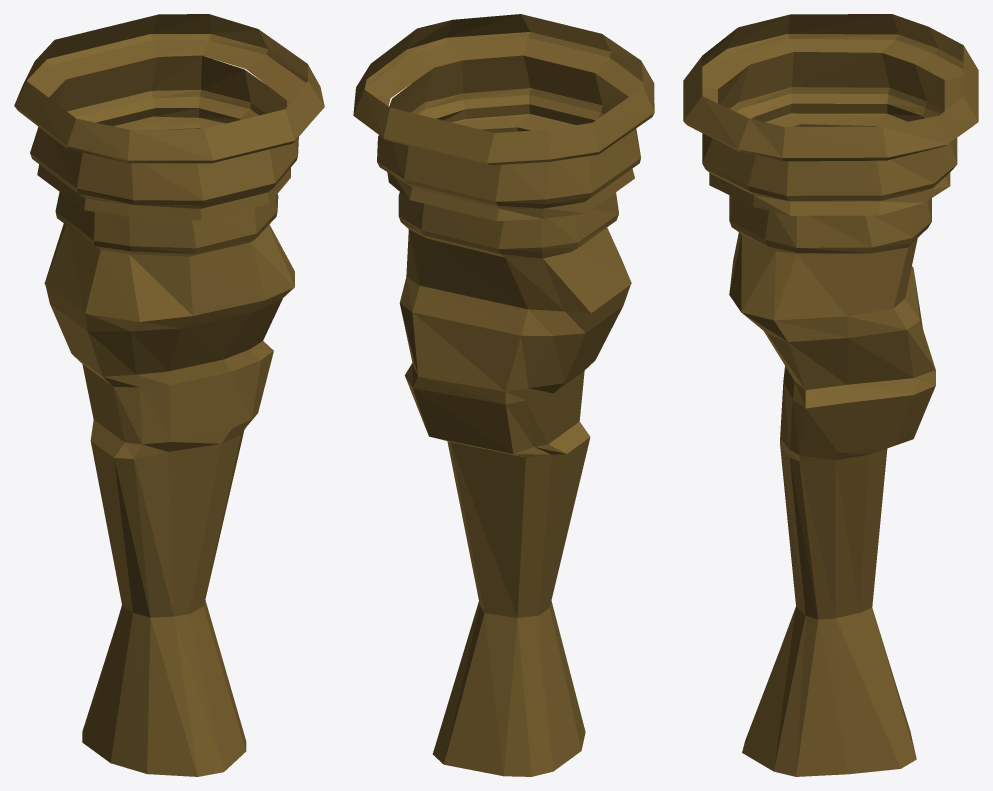
The model's file is obj_platform_3_0.obj.
The picture shows the model from 3 angles, left to right: view 1: azimuth 30°, elevation 25°; view 2: azimuth 150°, elevation 25°; view 3: azimuth 270°, elevation 25°; orthographic projection.
Size of the model in its own units: 2.89 by 7.35 by 2.91.
